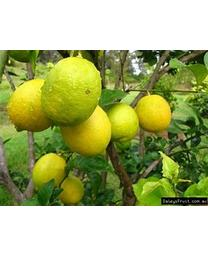lemon: (41, 58, 100, 127), (62, 105, 111, 158), (8, 81, 46, 133), (32, 152, 68, 192), (136, 96, 172, 134), (105, 103, 138, 144), (59, 176, 84, 205)
